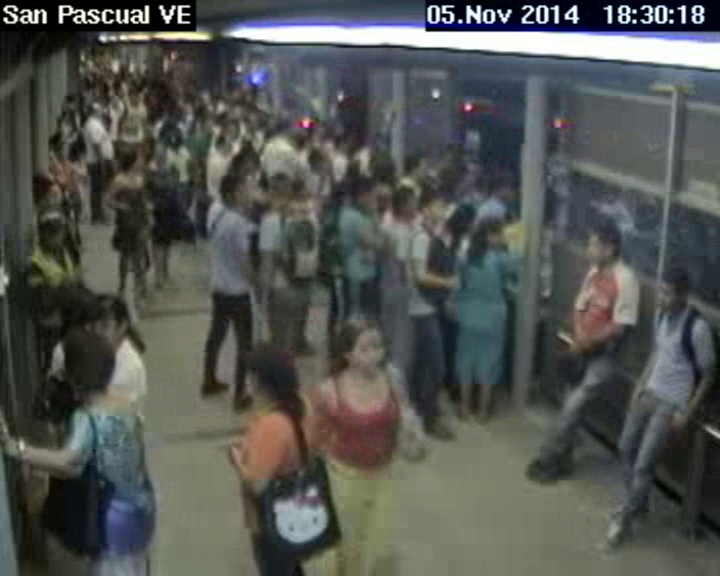person: (242, 337, 303, 406), (329, 312, 387, 374), (61, 329, 111, 396), (580, 217, 627, 276), (88, 293, 134, 349), (655, 267, 690, 324), (36, 207, 70, 249), (217, 172, 250, 214), (385, 186, 417, 220), (419, 185, 448, 221), (447, 203, 476, 239), (353, 173, 379, 213), (400, 150, 429, 184), (477, 214, 505, 246), (269, 174, 292, 208), (37, 177, 60, 208), (210, 130, 232, 158), (493, 172, 510, 205), (118, 143, 138, 171), (215, 118, 239, 138), (309, 148, 326, 173), (159, 126, 181, 145), (273, 122, 296, 138), (151, 144, 167, 164), (86, 101, 103, 117), (63, 94, 76, 111), (294, 131, 304, 150)
